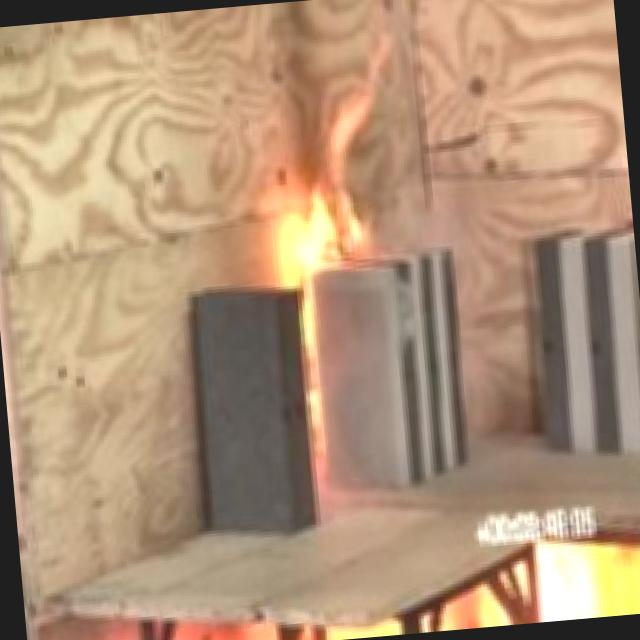fire: (232, 64, 412, 309)
